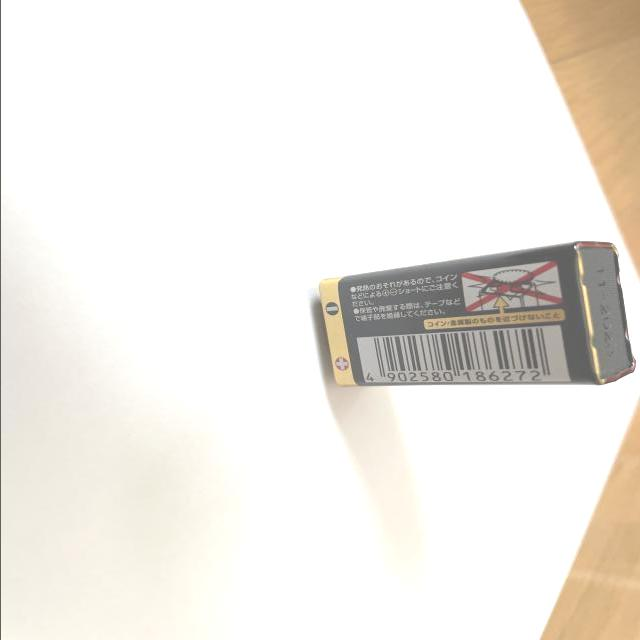9V: (318, 240, 634, 389)
